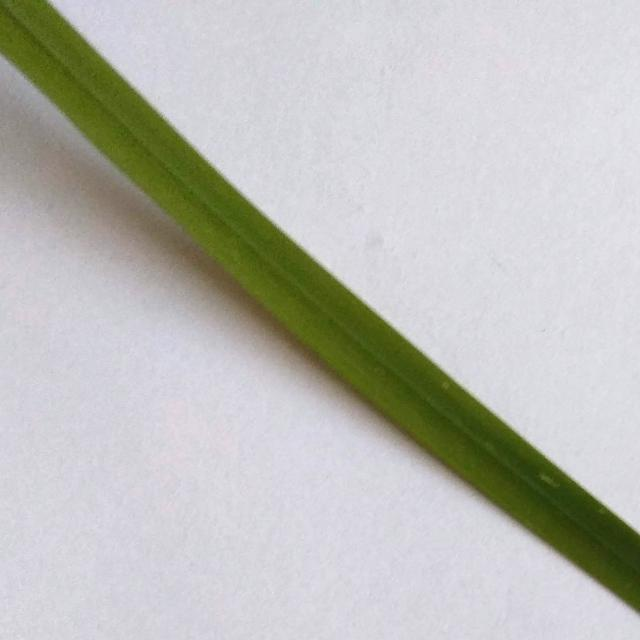Rice_Healthy: (0, 0, 640, 611)
